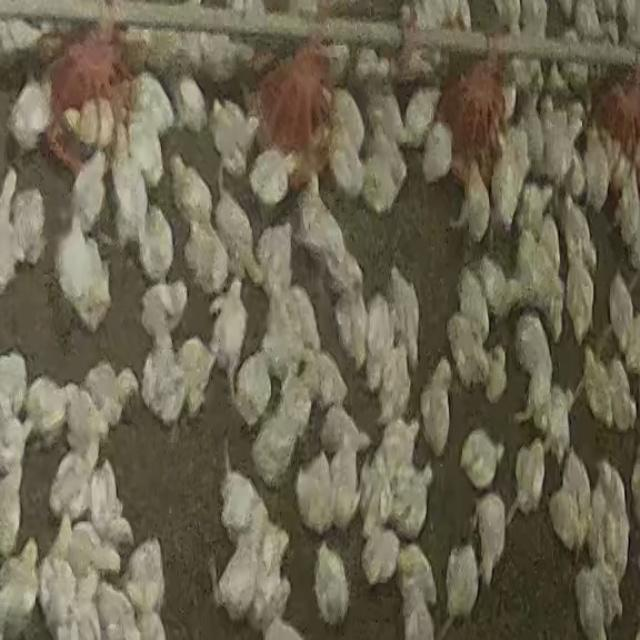chicken: (52, 207, 112, 336), (212, 178, 260, 300), (557, 198, 597, 344), (213, 469, 279, 547), (120, 538, 169, 638), (552, 449, 596, 560), (109, 148, 153, 259), (140, 340, 193, 432), (206, 278, 250, 388), (328, 86, 370, 201), (86, 461, 136, 557), (592, 460, 631, 582), (252, 402, 306, 489), (208, 95, 260, 185), (358, 122, 406, 217), (183, 211, 231, 304), (394, 543, 440, 638), (446, 308, 495, 397), (67, 146, 111, 244), (297, 173, 346, 261), (386, 451, 434, 540), (60, 516, 120, 586), (0, 536, 41, 638), (22, 373, 72, 452), (325, 435, 366, 531), (5, 75, 53, 157), (39, 553, 84, 639), (174, 336, 217, 424), (374, 415, 416, 505), (293, 453, 339, 535), (215, 535, 256, 626), (270, 362, 314, 446), (47, 449, 95, 526), (280, 278, 322, 366), (254, 218, 296, 306), (138, 281, 190, 351), (490, 136, 526, 236), (518, 377, 572, 443), (442, 540, 483, 626), (62, 380, 105, 462), (138, 202, 178, 290), (572, 560, 617, 638), (312, 541, 352, 628), (388, 266, 421, 371), (172, 153, 217, 230), (249, 535, 288, 623), (420, 359, 455, 456), (302, 347, 348, 420), (8, 184, 46, 272), (454, 267, 492, 355), (85, 366, 136, 428), (377, 344, 414, 428), (579, 120, 612, 214), (248, 146, 294, 213), (359, 522, 403, 592), (457, 162, 492, 250), (232, 352, 271, 430), (122, 110, 163, 184), (518, 313, 552, 402), (0, 166, 24, 292), (364, 294, 395, 390), (333, 286, 366, 375), (127, 73, 179, 128), (356, 448, 386, 543), (577, 348, 612, 429), (459, 430, 506, 490), (606, 271, 637, 361), (475, 494, 505, 585), (536, 208, 565, 302), (0, 351, 30, 438), (93, 582, 139, 638), (472, 256, 508, 327), (66, 96, 114, 148), (511, 441, 546, 512), (317, 406, 371, 452), (513, 180, 552, 243), (608, 359, 640, 435), (402, 85, 440, 149), (420, 118, 454, 188), (0, 409, 30, 487), (173, 72, 210, 135), (517, 94, 546, 173), (0, 470, 24, 556), (617, 169, 640, 258), (516, 1, 551, 38), (573, 1, 602, 37)
